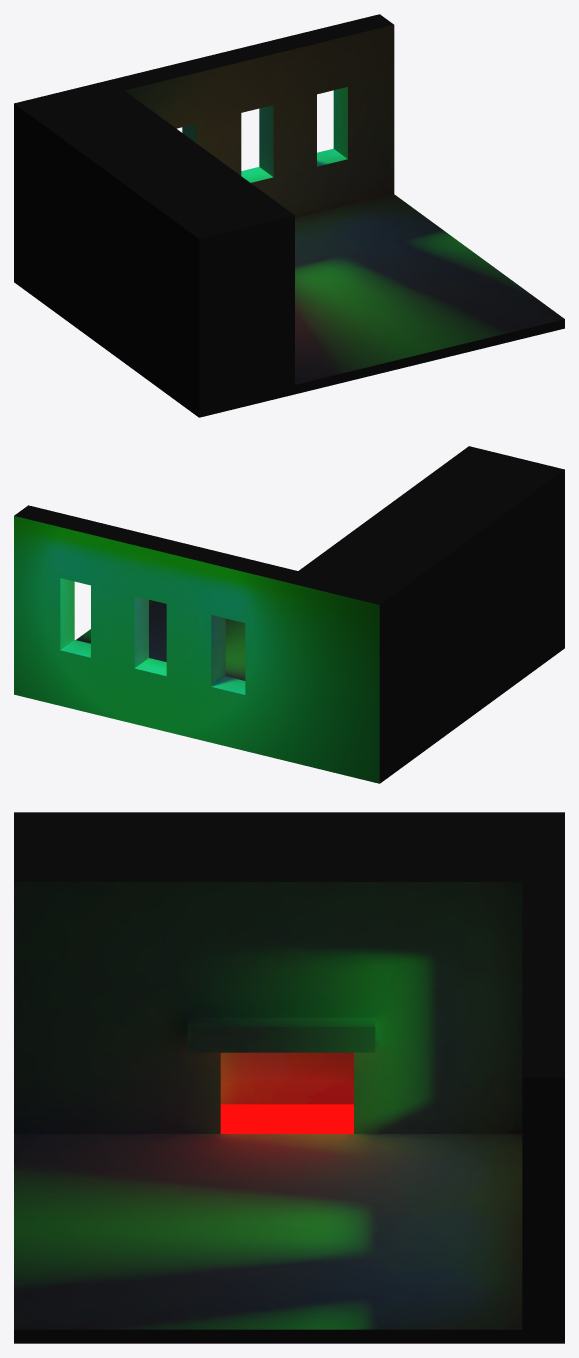
Rendered from night.glb.
3 views of the same model, one above another, from view 1: azimuth 30°, elevation 25°; view 2: azimuth 150°, elevation 25°; view 3: azimuth 270°, elevation 25° (orthographic). The views are drawn at different scales.
Parts seen in each view (by area): view 1: SketchUp; view 2: SketchUp; view 3: SketchUp.
Boxes of the visible parts, x1=… form: SketchUp: x1=14, y1=14, x2=564, y2=417; SketchUp: x1=14, y1=446, x2=564, y2=783; SketchUp: x1=14, y1=812, x2=564, y2=1343.
Bounding box in the file's own units: 8.1 × 3.78 × 7.1.
2 materials, 2 textured.
